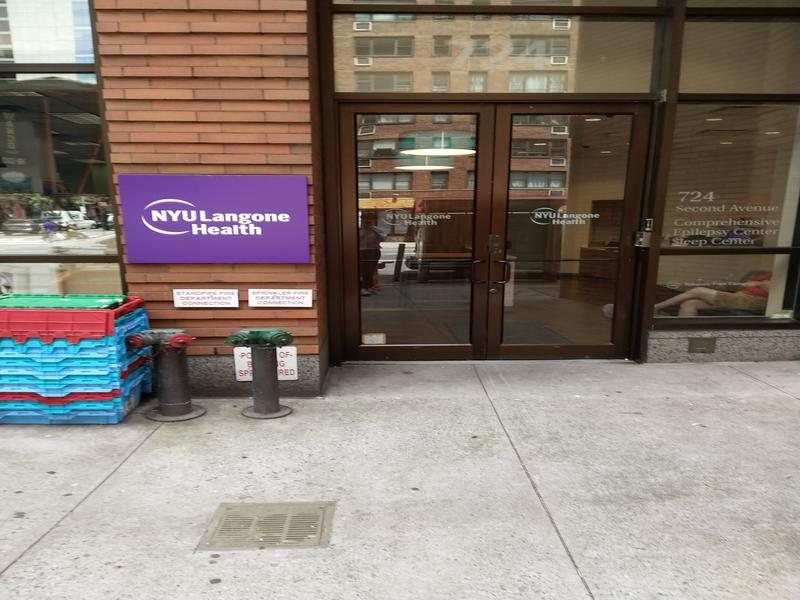double_door: (331, 88, 660, 366)
